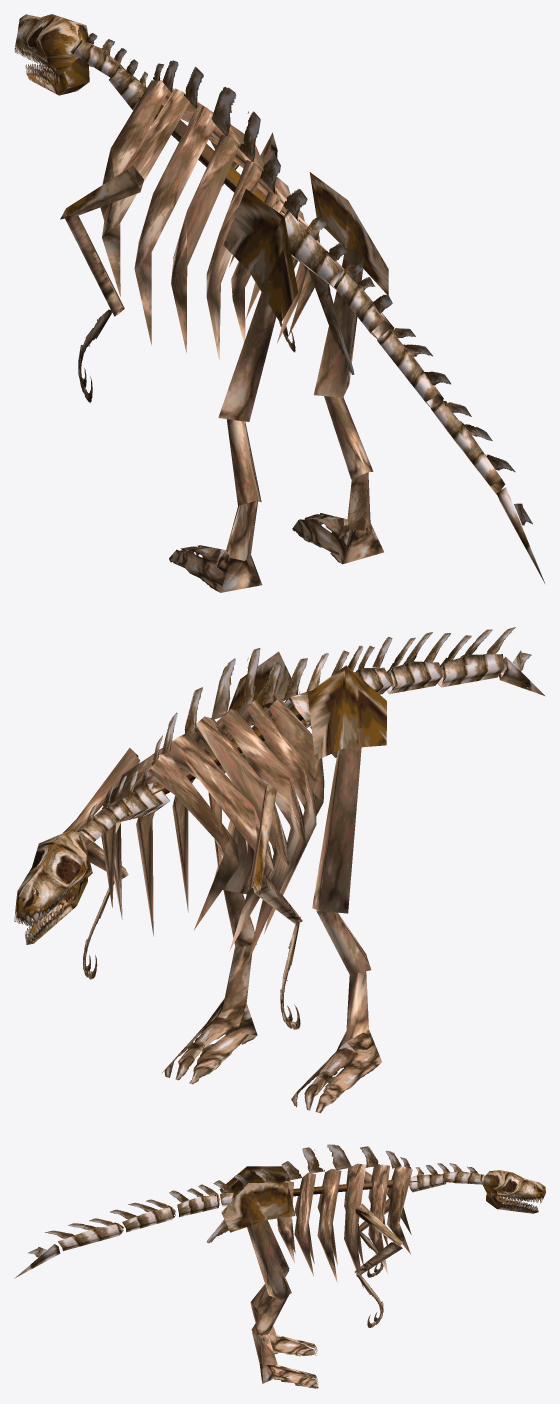
Rendered from Dinosaur Skeleton.fbx.
3 renders of one model, top to bottom at view 1: azimuth 30°, elevation 25°; view 2: azimuth 150°, elevation 25°; view 3: azimuth 270°, elevation 25°, orthographic. The views are drawn at different scales.
Parts seen in each view (by area): view 1: dinosaur skeleton; view 2: dinosaur skeleton; view 3: dinosaur skeleton.
Boxes of the visible parts, x1,y1,x2,y2 form: dinosaur skeleton: (14,14,544,592); dinosaur skeleton: (14,627,545,1113); dinosaur skeleton: (14,1144,545,1388).
Bounding box in the file's own units: 141 × 289 × 617.
